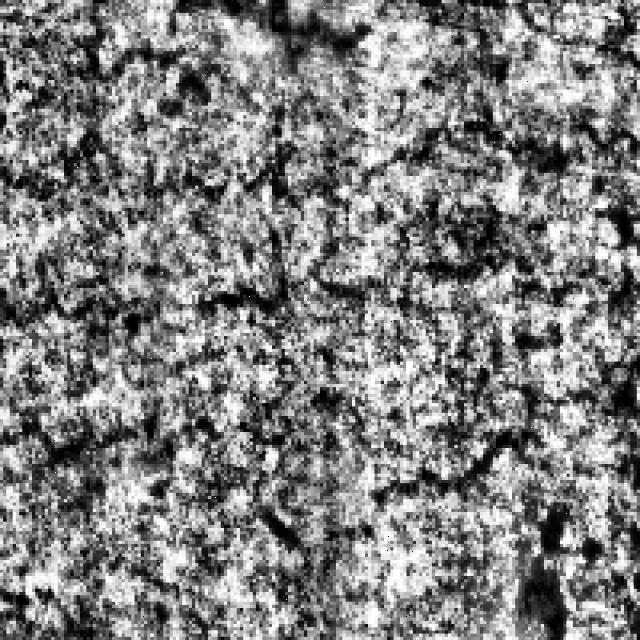Pitted_Surface: (166, 118, 640, 326), (7, 19, 166, 461), (397, 266, 640, 497)
